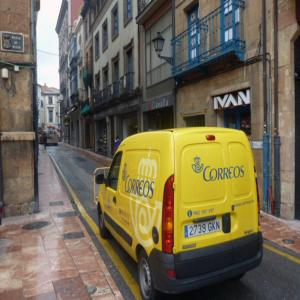Vehicle-registration-plate: (187, 221, 222, 239)
